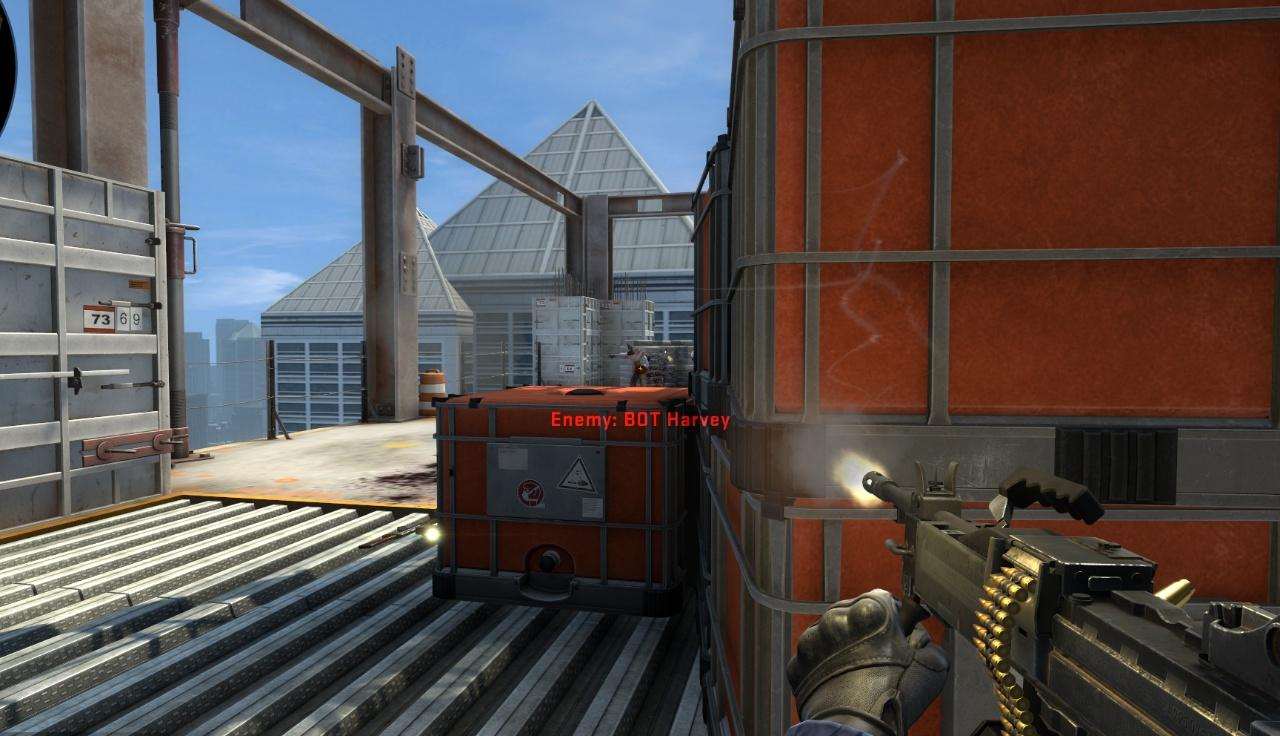rifle: (844, 460, 1280, 736)
tt: (626, 346, 650, 388)
tthead: (635, 349, 642, 357)
